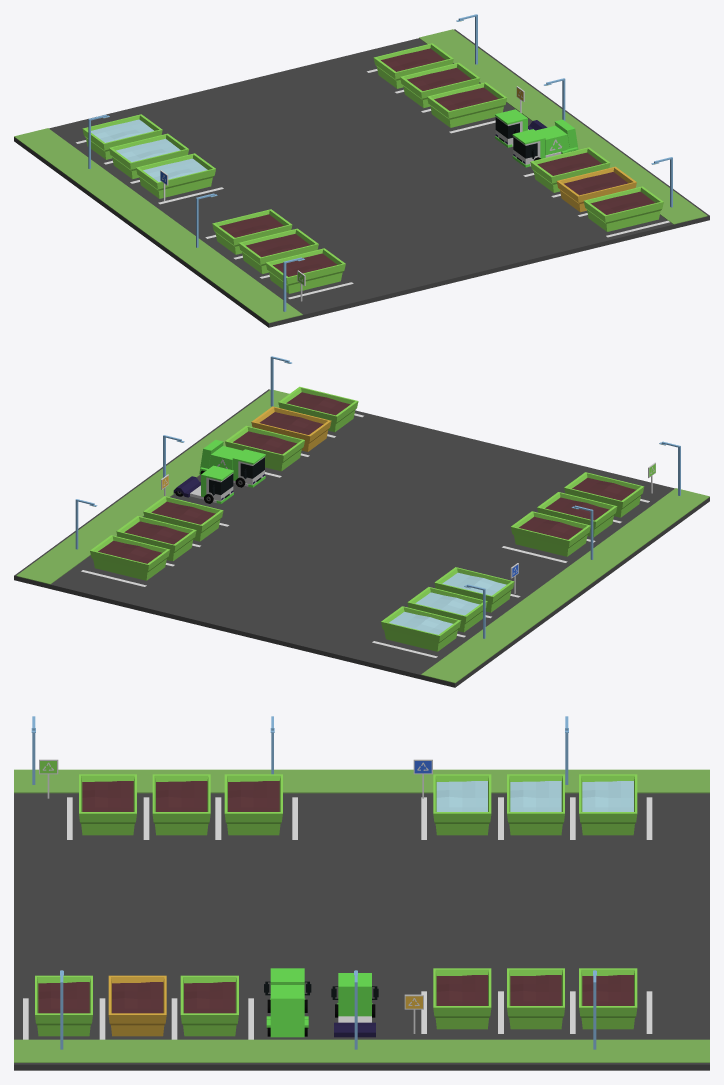
File: waste_collect_center.fbx
3 views of the same model, one above another, from view 1: azimuth 30°, elevation 25°; view 2: azimuth 150°, elevation 25°; view 3: azimuth 270°, elevation 25° (orthographic). The views are drawn at different scales.
Parts seen in each view (by area): view 1: parking_ground, trash.011, trash.008, trash.003, trash, recycling_truck.001, trash.007, trash.010, trash.004, trash.002, trash.001, trash.006 (+3 smaller); view 2: parking_ground, trash.005, trash.001, trash.006, trash.009, trash.011, trash.008, trash, recycling_truck.001, trash.010, trash.007, trash.003 (+3 smaller); view 3: parking_ground, trash.009, trash.002, trash.010, trash.003, trash.008, trash.001, trash.005, trash, trash.004, trash.007, trash.006 (+7 smaller).
Part boxes in pixels (left/top/right/bottom): parking_ground: left=14, top=29, right=709, bottom=327; trash.011: left=583, top=186, right=663, bottom=231; trash.008: left=427, top=82, right=506, bottom=127; trash.003: left=136, top=153, right=215, bottom=198; trash: left=265, top=248, right=345, bottom=293; recycling_truck.001: left=512, top=119, right=578, bottom=167; trash.007: left=400, top=62, right=480, bottom=108; trash.010: left=556, top=166, right=636, bottom=212; trash.004: left=109, top=133, right=188, bottom=179; trash.002: left=238, top=228, right=318, bottom=273; trash.001: left=212, top=209, right=292, bottom=254; trash.006: left=373, top=43, right=453, bottom=88; parking_ground: left=14, top=389, right=709, bottom=687; trash.005: left=381, top=606, right=461, bottom=651; trash.001: left=511, top=511, right=590, bottom=556; trash.006: left=90, top=535, right=169, bottom=580; trash.009: left=225, top=425, right=304, bottom=471; trash.011: left=278, top=386, right=358, bottom=432; trash.008: left=143, top=496, right=223, bottom=541; trash: left=564, top=472, right=644, bottom=517; recycling_truck.001: left=199, top=439, right=265, bottom=487; trash.010: left=251, top=406, right=331, bottom=451; trash.007: left=116, top=516, right=196, bottom=561; trash.003: left=434, top=567, right=514, bottom=612; parking_ground: left=14, top=769, right=709, bottom=1070; trash.009: left=180, top=975, right=238, bottom=1036; trash.002: left=152, top=774, right=210, bottom=835; trash.010: left=108, top=975, right=166, bottom=1036; trash.003: left=433, top=774, right=491, bottom=835; trash.008: left=433, top=968, right=491, bottom=1029; trash.001: left=224, top=774, right=282, bottom=835; trash.005: left=579, top=774, right=637, bottom=835; trash: left=79, top=774, right=136, bottom=835; trash.004: left=507, top=774, right=564, bottom=835; trash.007: left=507, top=968, right=564, bottom=1029; trash.006: left=579, top=968, right=637, bottom=1029.
Bounding box in the file's own units: 52 × 52 × 6.18.
